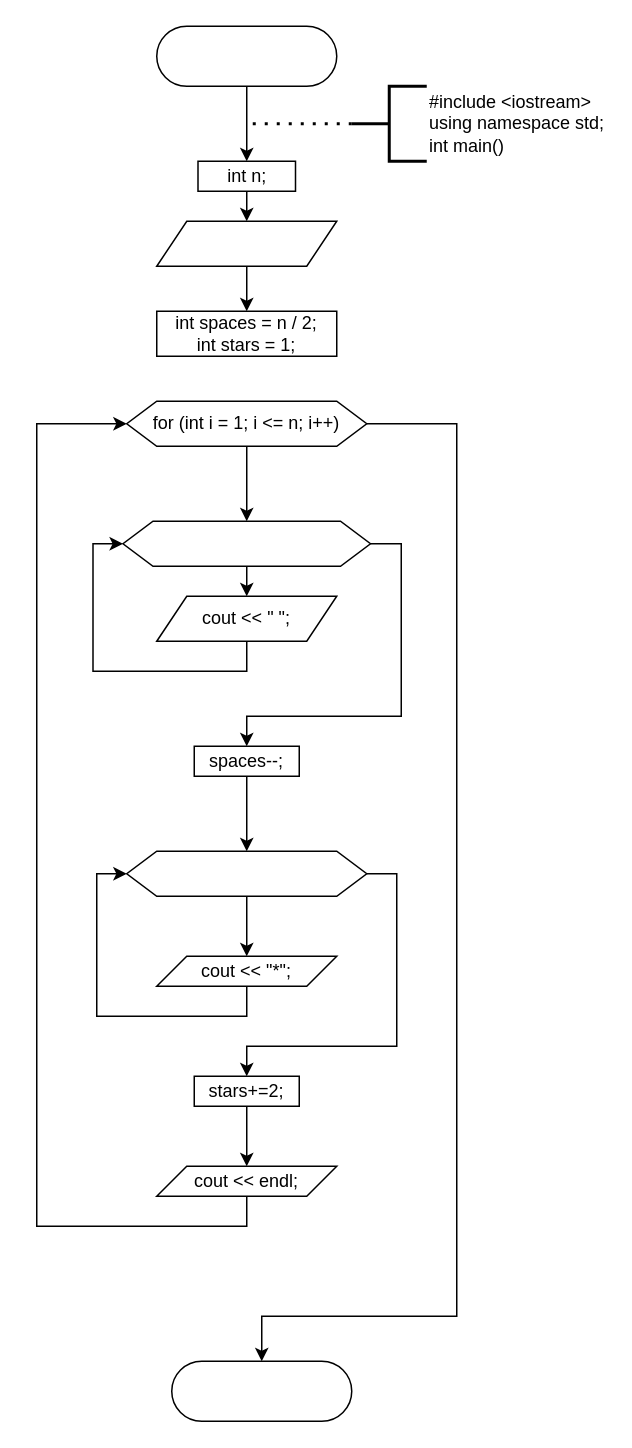
Some shapes in this 632 by 1448 pixel diagram are drawn without their labels. The centre of each missing label's shape, as x and y in pixels:
"cin >> n;" belongs at point 246,243.
"for (int j = 1; j <= spaces; j++)" belongs at point 246,543.
"for (int j = 1; j <= stars; j++)" belongs at point 246,873.
"Конец" belongs at point 261,1390.
"Начало" belongs at point 246,55.
